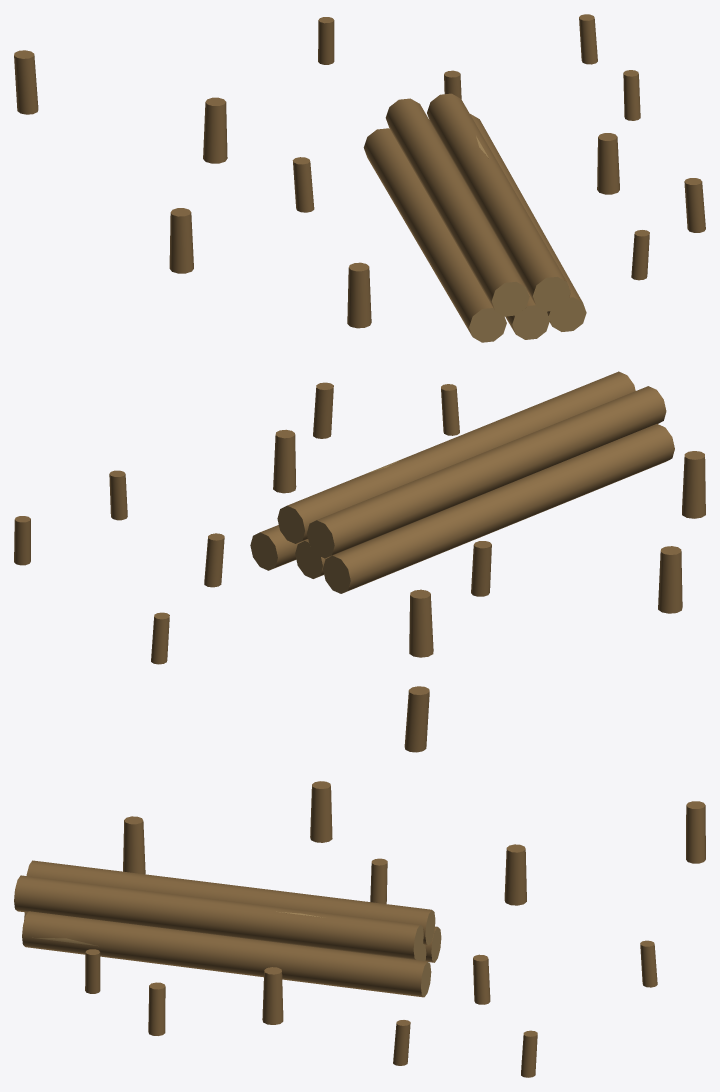
The model's file is Resource_Tree_Group_Cut.glb.
The picture shows the model from 3 angles, top to bottom: view 1: azimuth 30°, elevation 25°; view 2: azimuth 150°, elevation 25°; view 3: azimuth 270°, elevation 25°; orthographic projection. The views are drawn at different scales.
Parts seen in each view (by area): view 1: Resource_Tree_Group_Cut; view 2: Resource_Tree_Group_Cut; view 3: Resource_Tree_Group_Cut.
Part boxes in pixels (bbox=[...]): Resource_Tree_Group_Cut: bbox=[14, 14, 705, 342]; Resource_Tree_Group_Cut: bbox=[14, 371, 705, 752]; Resource_Tree_Group_Cut: bbox=[14, 781, 705, 1077].
Size of the model in its own units: 1.53 by 0.17 by 1.84.
